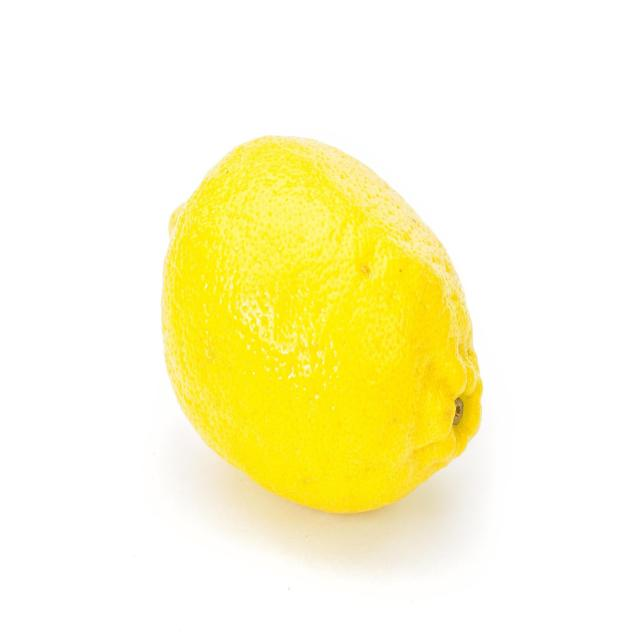lemon: (155, 128, 489, 523)
